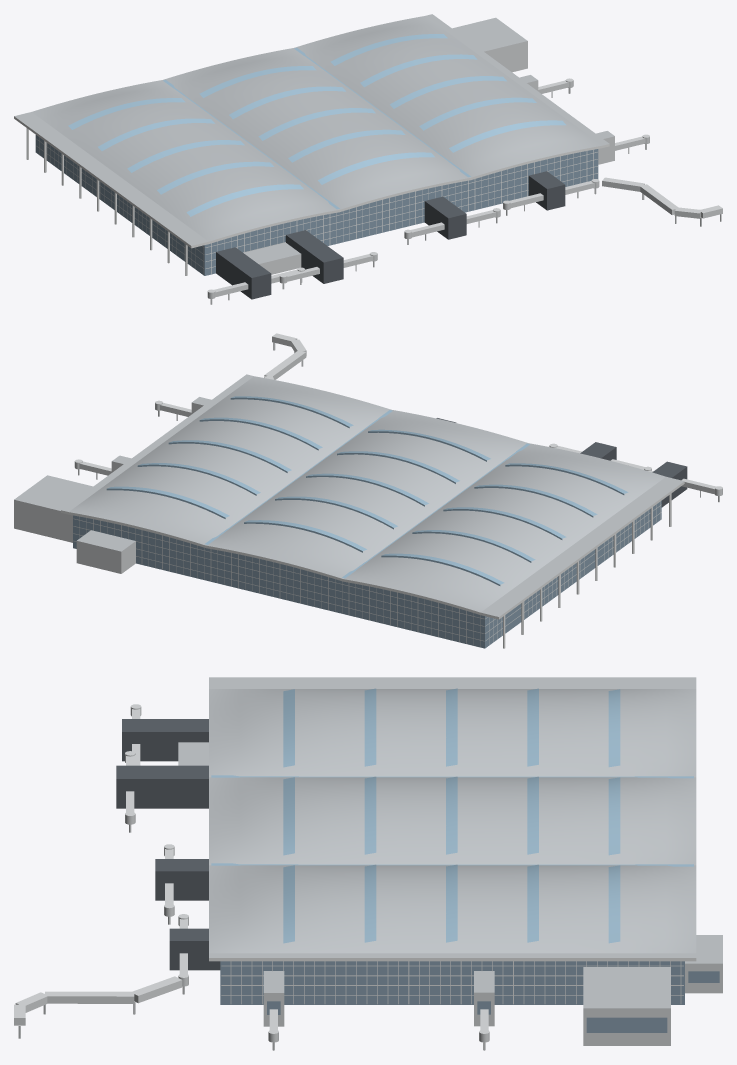
The model's file is london-heathrow-terminal-2.detail.glb.
3 renders of one model, top to bottom at view 1: azimuth 30°, elevation 25°; view 2: azimuth 150°, elevation 25°; view 3: azimuth 270°, elevation 25°, orthographic. The views are drawn at different scales.
Parts seen in each view (by area): view 1: Heathrow Terminal 2, The Queen's Terminal; view 2: Heathrow Terminal 2, The Queen's Terminal; view 3: Heathrow Terminal 2, The Queen's Terminal.
Boxes of the visible parts, box(x1,y1,x2,y2) form: Heathrow Terminal 2, The Queen's Terminal: box(14, 14, 722, 304); Heathrow Terminal 2, The Queen's Terminal: box(14, 333, 722, 648); Heathrow Terminal 2, The Queen's Terminal: box(14, 677, 722, 1050).
Size of the model in its own units: 336 by 34 by 305.
